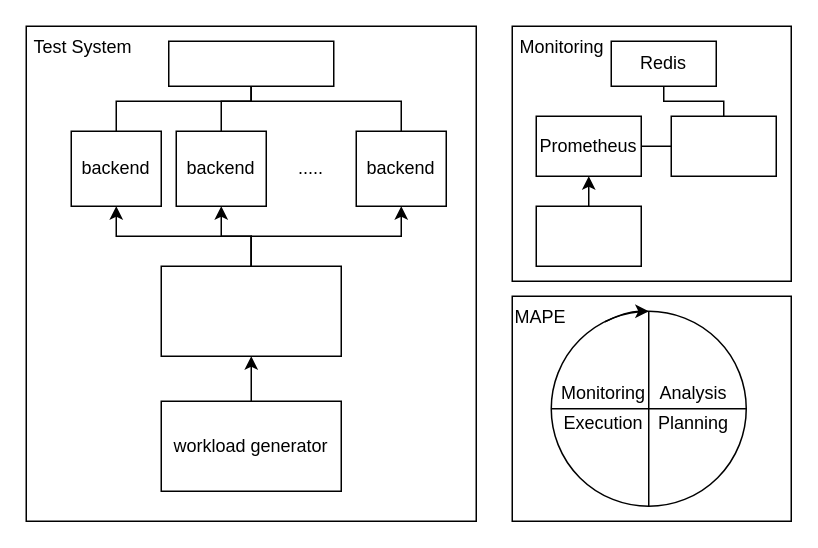
The diagram is 818 pixels wide and 548 high, and some of its shapes have lost their labels. Here are the shapes that lost their labels. From the top down, the centre of each, then its label:
At point 250,63: "mongodb".
At point 723,145: "Cadvisor".
At point 588,235: "Grafana".
At point 250,310: "NGINX load balancer".
